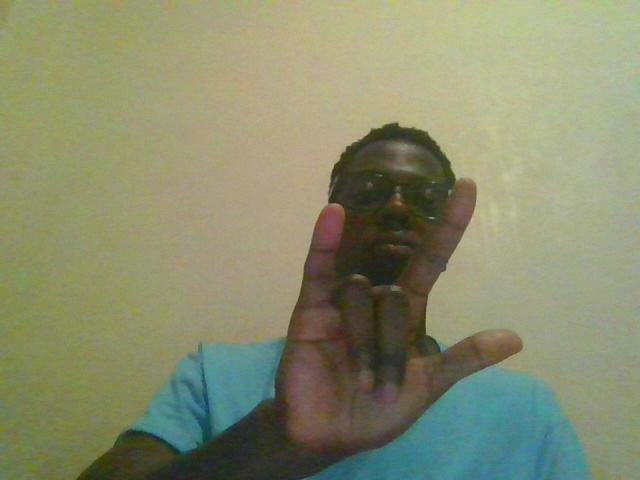I Love You: (265, 176, 551, 475)
